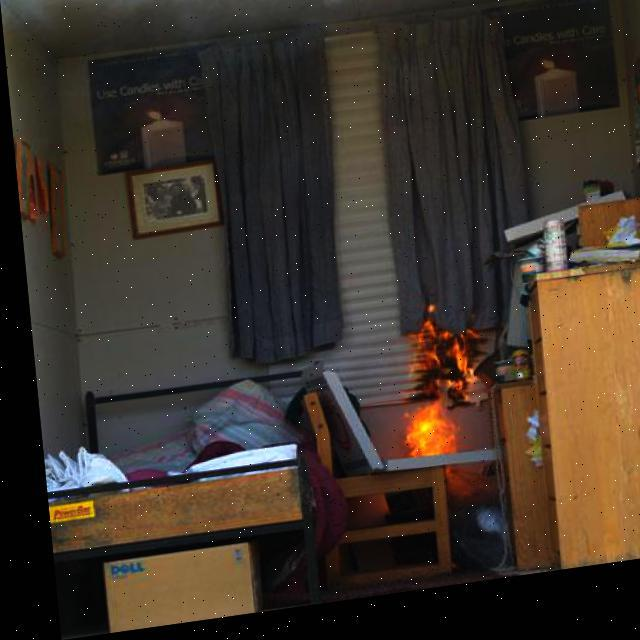Fire: (390, 413, 450, 471)
